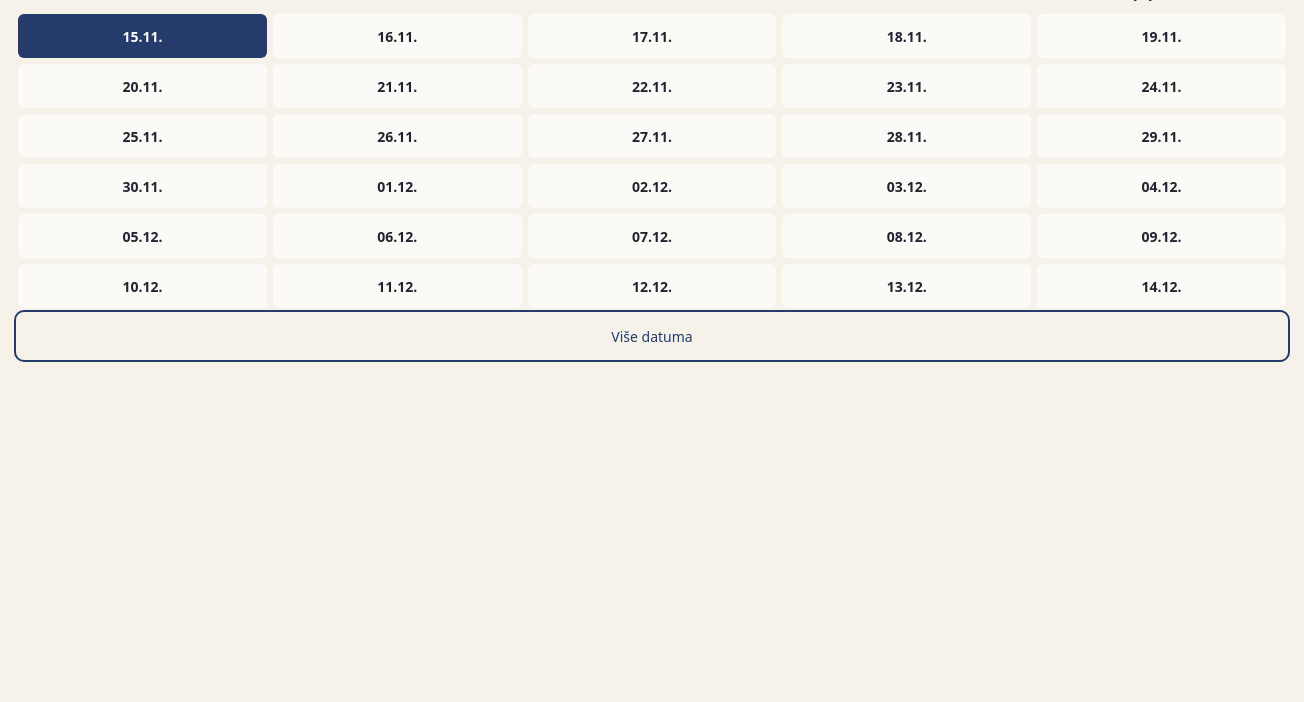
it: DateSelectField › adds two more rows with "Više datuma" and reaches the end of the quarter
This screenshot has width=1304, height=702.
Earlier steps of the test are not shown.
Click the button "Više datuma".
click(652, 336)  # box [18, 314, 1286, 358]
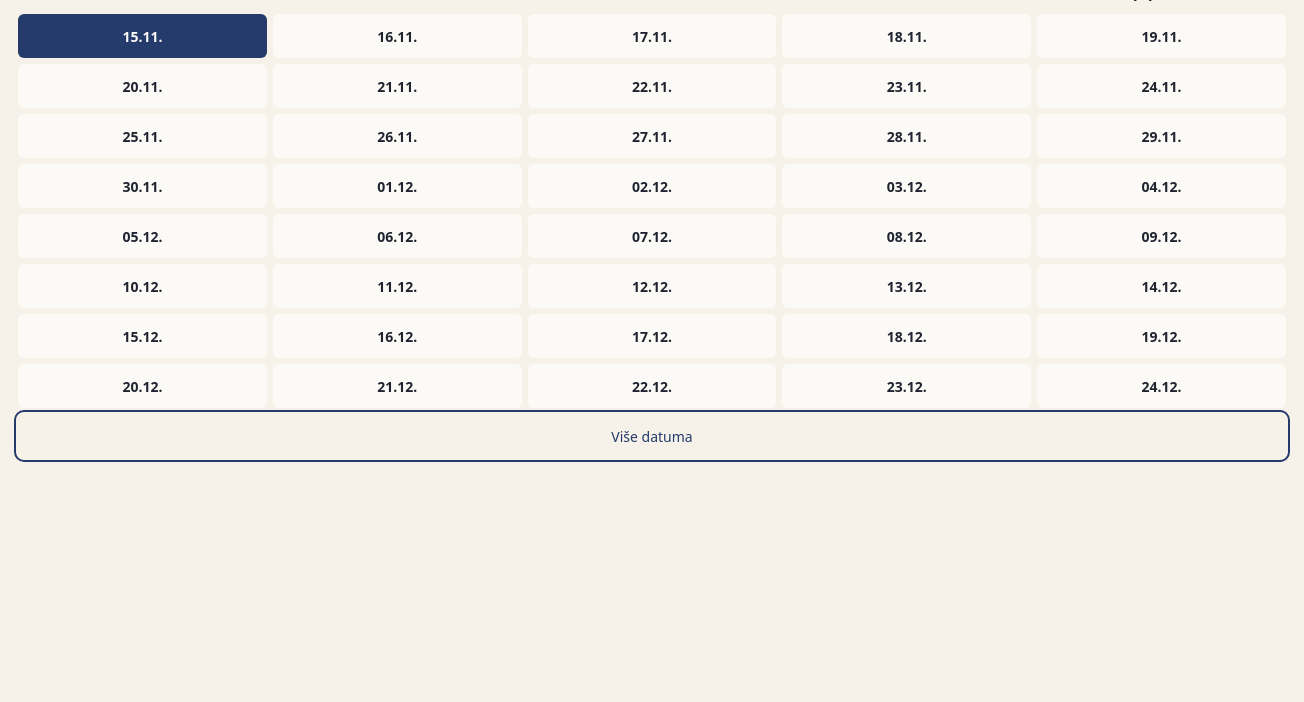
Click the button "Više datuma".
click(652, 436)  # box [18, 414, 1286, 458]
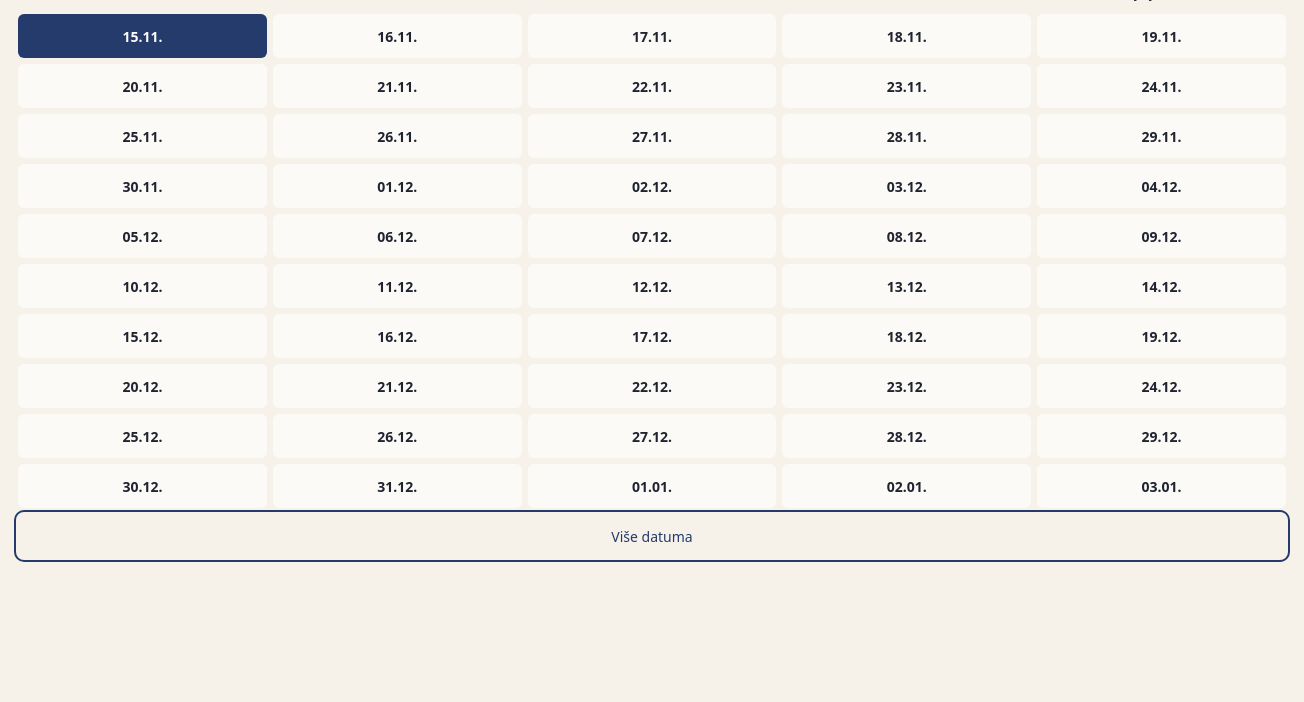
Click the button "Više datuma".
click(652, 536)  # box [18, 514, 1286, 558]
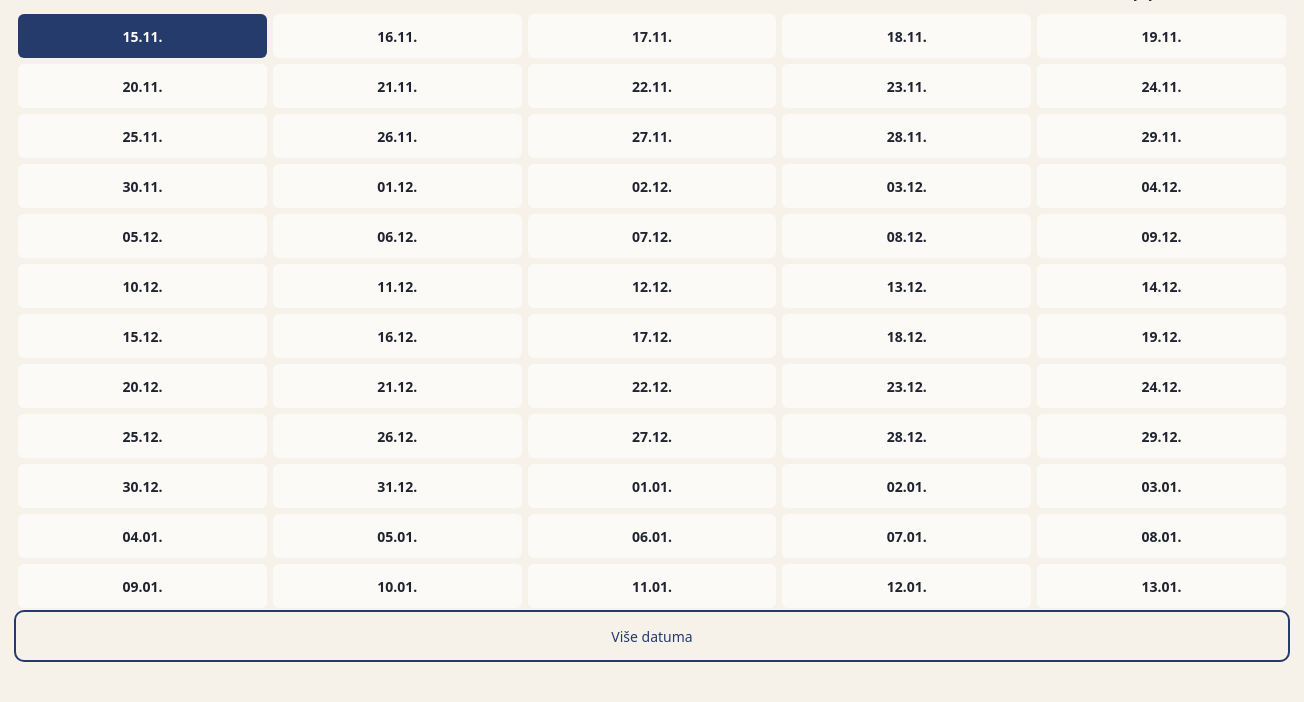
Click the button "Više datuma".
click(652, 636)  # box [18, 614, 1286, 658]
(page scrolled)
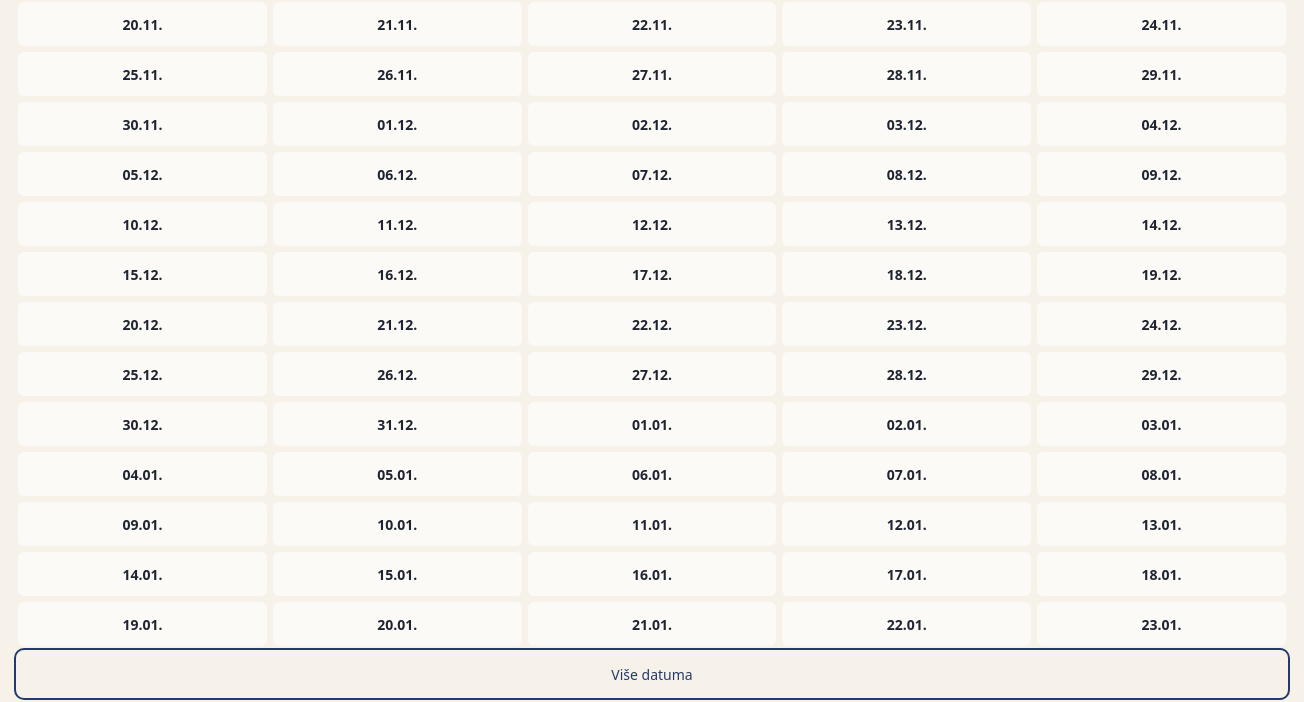
Click the button "Više datuma".
click(652, 674)  # box [18, 652, 1286, 696]
(page scrolled)
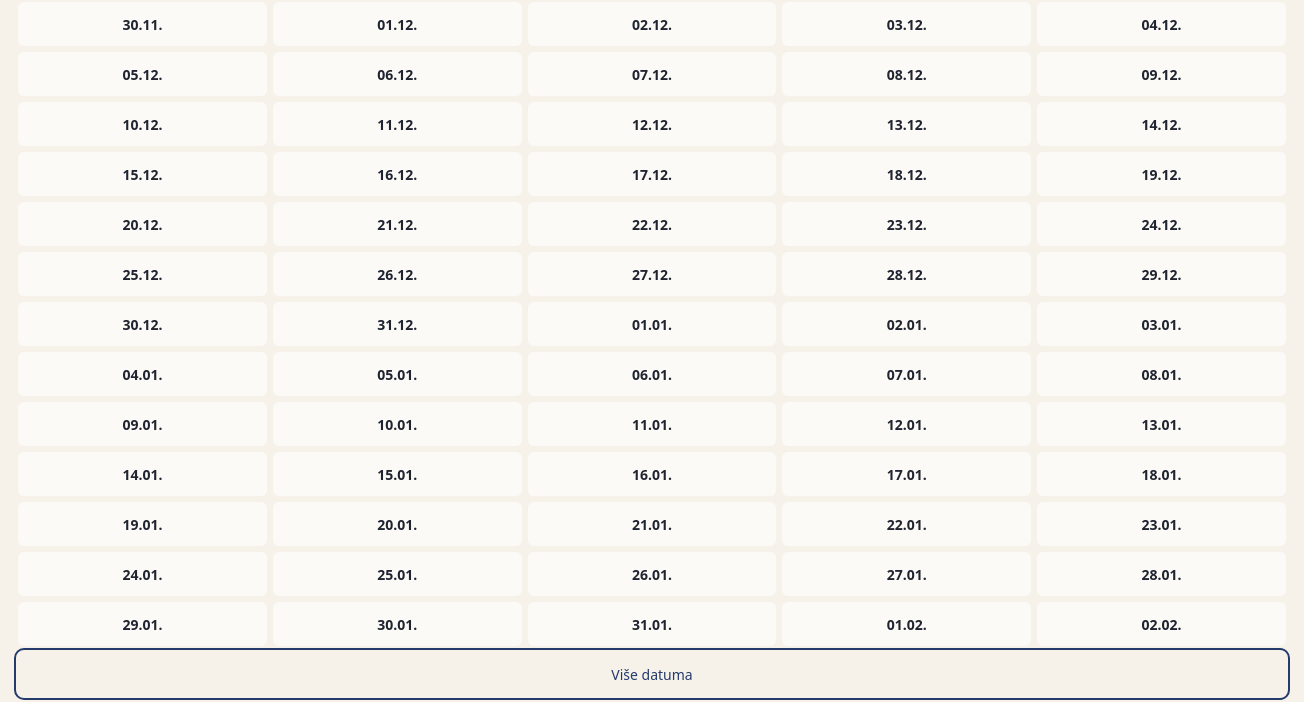
Click the button "Više datuma".
click(652, 674)  # box [18, 652, 1286, 696]
(page scrolled)
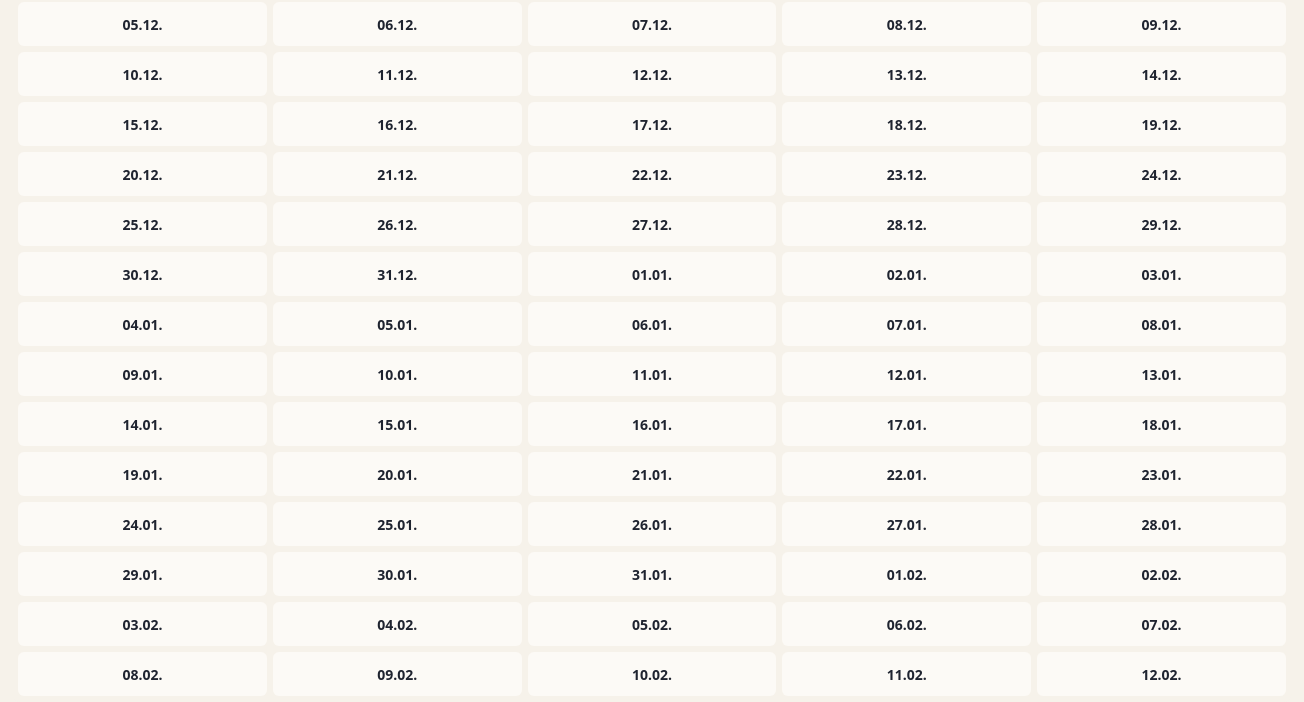
Expected: the button "Više datuma" is gone
Expected: the button named "petak, 12.02.2027" is shown, [1037, 652, 1286, 696]
